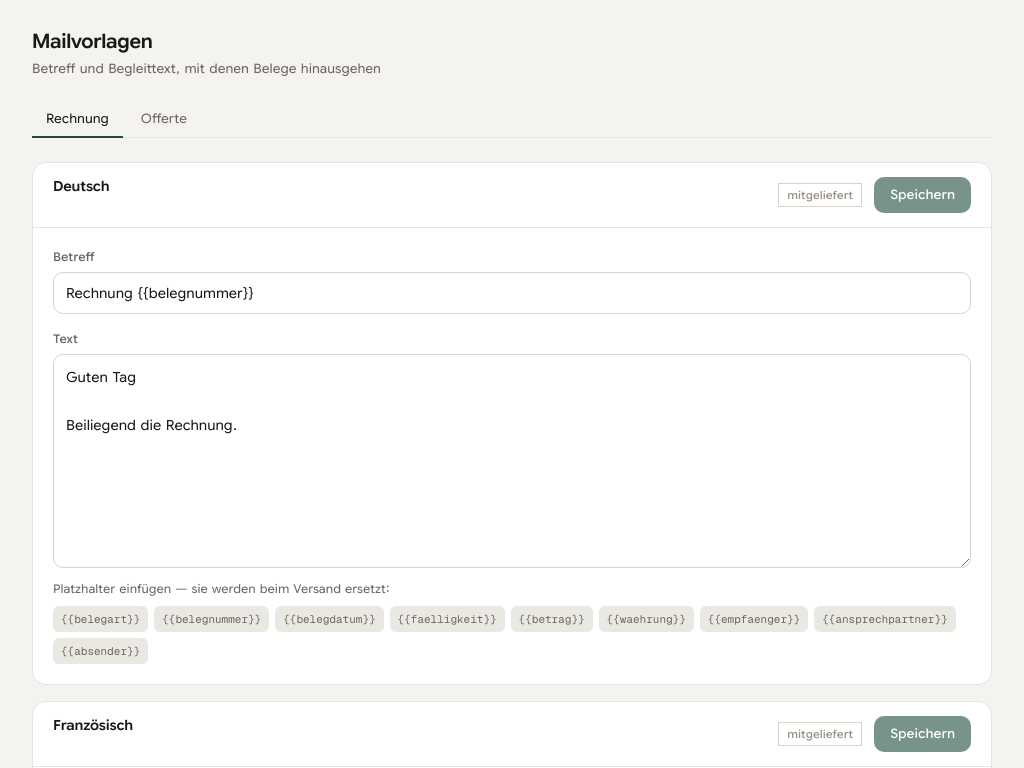
OutboxTemplatePage › outboxTemplatePageSwitchesRegisterTest
Click the tab "Offerte": coordinates (164, 120) x1=127 y1=102 x2=201 y2=138
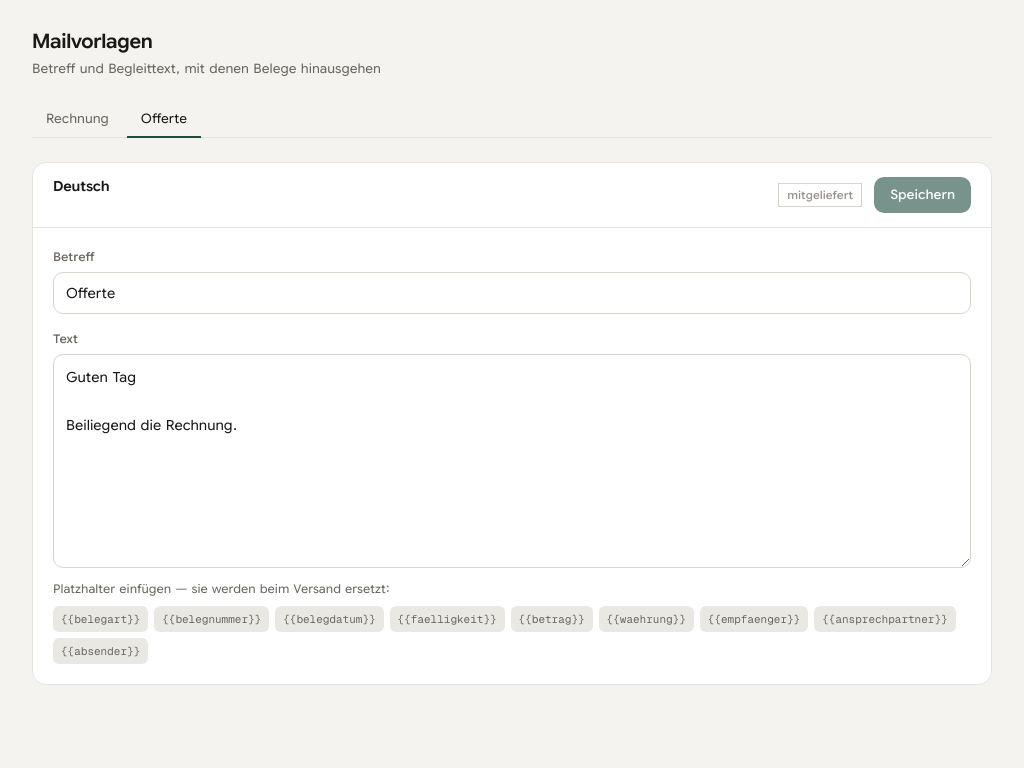
Check: the text "Französisch" is gone
